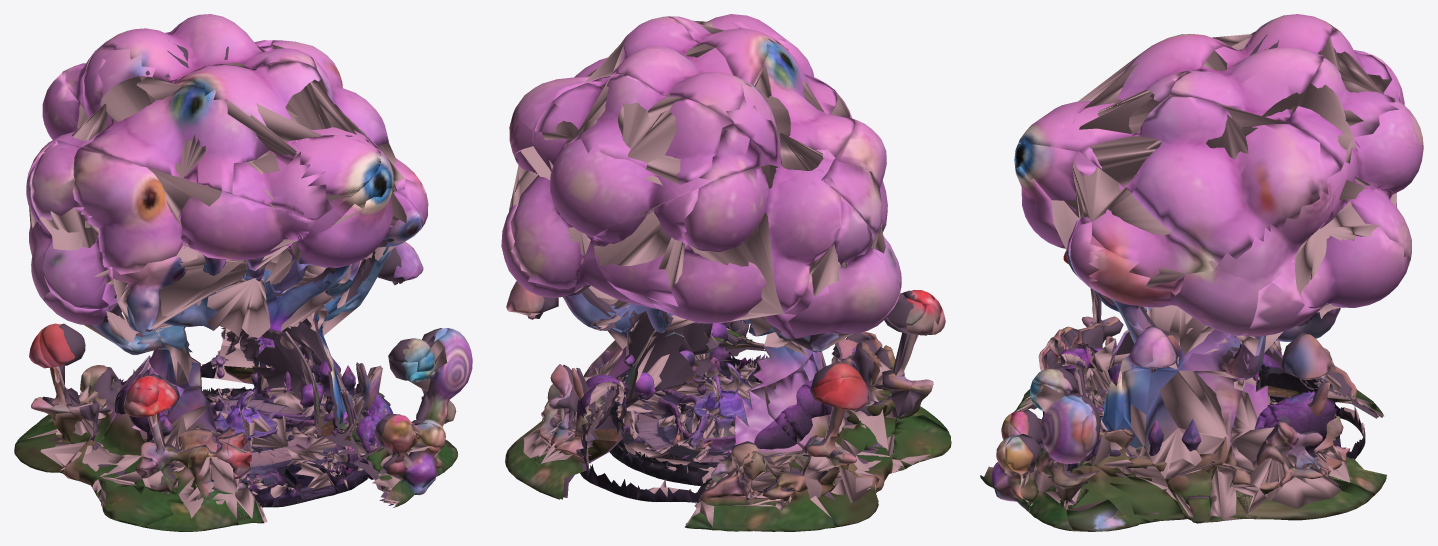
File: CF_Bld_Q3_Fractured.fbx
3 renders of one model, left to right at view 1: azimuth 30°, elevation 25°; view 2: azimuth 150°, elevation 25°; view 3: azimuth 270°, elevation 25°, orthographic. The views are drawn at different scales.
Visible parts, largest first — view 1: CF_Bld_Q3_Frag_10, CF_Bld_Q3_Frag_07, CF_Bld_Q3_Frag_26, CF_Bld_Q3_Frag_32, CF_Bld_Q3_Frag_02, CF_Bld_Q3_Frag_05, CF_Bld_Q3_Frag_04, CF_Bld_Q3_Frag_31, CF_Bld_Q3_Frag_09, CF_Bld_Q3_Frag_25, CF_Bld_Q3_Frag_06, CF_Bld_Q3_Frag_21 (+16 smaller); view 2: CF_Bld_Q3_Frag_34, CF_Bld_Q3_Frag_28, CF_Bld_Q3_Frag_07, CF_Bld_Q3_Frag_31, CF_Bld_Q3_Frag_32, CF_Bld_Q3_Frag_11, CF_Bld_Q3_Frag_13, CF_Bld_Q3_Frag_05, CF_Bld_Q3_Frag_14, CF_Bld_Q3_Frag_10, CF_Bld_Q3_Frag_01, CF_Bld_Q3_Frag_18 (+16 smaller); view 3: CF_Bld_Q3_Frag_15, CF_Bld_Q3_Frag_33, CF_Bld_Q3_Frag_28, CF_Bld_Q3_Frag_29, CF_Bld_Q3_Frag_13, CF_Bld_Q3_Frag_21, CF_Bld_Q3_Frag_32, CF_Bld_Q3_Frag_07, CF_Bld_Q3_Frag_26, CF_Bld_Q3_Frag_01, CF_Bld_Q3_Frag_22, CF_Bld_Q3_Frag_23 (+10 smaller).
Boxes of the visible parts, x1=… form: CF_Bld_Q3_Frag_10: x1=30, y1=140, x2=315, y2=390; CF_Bld_Q3_Frag_07: x1=60, y1=61, x2=381, y2=220; CF_Bld_Q3_Frag_26: x1=241, y1=135, x2=430, y2=362; CF_Bld_Q3_Frag_32: x1=83, y1=14, x2=316, y2=118; CF_Bld_Q3_Frag_02: x1=312, y1=358, x2=417, y2=493; CF_Bld_Q3_Frag_05: x1=99, y1=377, x2=230, y2=494; CF_Bld_Q3_Frag_04: x1=178, y1=427, x2=274, y2=531; CF_Bld_Q3_Frag_31: x1=14, y1=329, x2=94, y2=481; CF_Bld_Q3_Frag_09: x1=151, y1=273, x2=270, y2=385; CF_Bld_Q3_Frag_25: x1=41, y1=291, x2=189, y2=388; CF_Bld_Q3_Frag_06: x1=92, y1=402, x2=197, y2=531; CF_Bld_Q3_Frag_21: x1=406, y1=328, x2=472, y2=475; CF_Bld_Q3_Frag_34: x1=591, y1=164, x2=842, y2=323; CF_Bld_Q3_Frag_28: x1=533, y1=74, x2=769, y2=239; CF_Bld_Q3_Frag_07: x1=669, y1=14, x2=855, y2=177; CF_Bld_Q3_Frag_31: x1=741, y1=377, x2=884, y2=531; CF_Bld_Q3_Frag_32: x1=588, y1=16, x2=778, y2=166; CF_Bld_Q3_Frag_11: x1=711, y1=195, x2=900, y2=338; CF_Bld_Q3_Frag_13: x1=501, y1=146, x2=590, y2=297; CF_Bld_Q3_Frag_05: x1=812, y1=290, x2=941, y2=457; CF_Bld_Q3_Frag_14: x1=637, y1=438, x2=747, y2=531; CF_Bld_Q3_Frag_10: x1=821, y1=92, x2=934, y2=305; CF_Bld_Q3_Frag_01: x1=536, y1=346, x2=685, y2=460; CF_Bld_Q3_Frag_18: x1=748, y1=353, x2=892, y2=480; CF_Bld_Q3_Frag_15: x1=1080, y1=96, x2=1346, y2=290; CF_Bld_Q3_Frag_33: x1=1070, y1=151, x2=1258, y2=372; CF_Bld_Q3_Frag_28: x1=1287, y1=26, x2=1423, y2=198; CF_Bld_Q3_Frag_29: x1=1121, y1=367, x2=1251, y2=523; CF_Bld_Q3_Frag_13: x1=1295, y1=180, x2=1411, y2=309; CF_Bld_Q3_Frag_21: x1=1005, y1=380, x2=1129, y2=531; CF_Bld_Q3_Frag_32: x1=1169, y1=14, x2=1333, y2=122; CF_Bld_Q3_Frag_07: x1=1018, y1=31, x2=1255, y2=151; CF_Bld_Q3_Frag_26: x1=1014, y1=103, x2=1151, y2=393; CF_Bld_Q3_Frag_01: x1=1210, y1=382, x2=1303, y2=522; CF_Bld_Q3_Frag_22: x1=1235, y1=255, x2=1340, y2=379; CF_Bld_Q3_Frag_23: x1=1082, y1=418, x2=1186, y2=527.
Bounding box in the file's own units: 2239 × 2344 × 2284.
